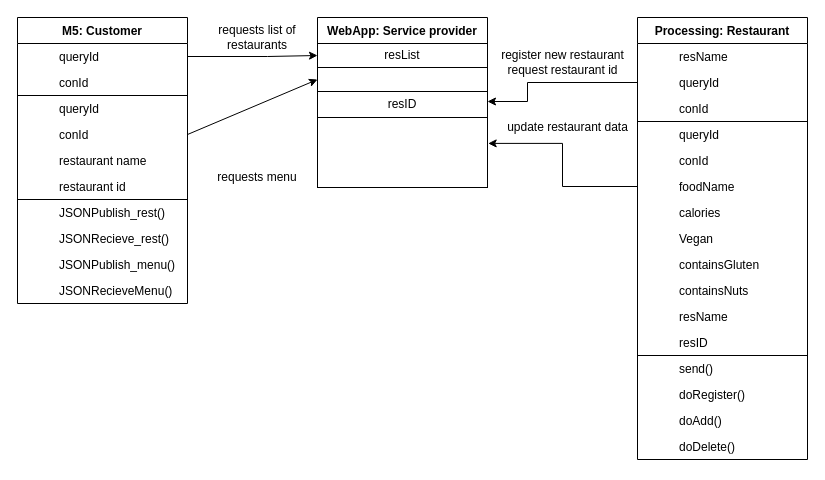
Image size: 825x480. Some labels were removed from this diagram. Each missing label, with the centre of its shape:
"listRes() getRes() newRes() updateRes()" belongs at point 402,152.
"resSingle" belongs at point 402,79.
